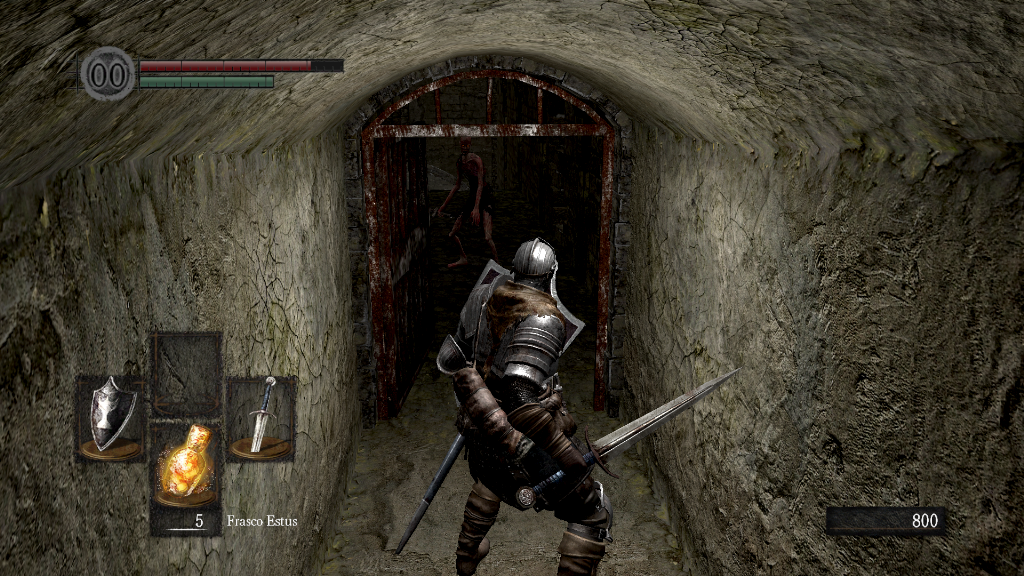health: (138, 58, 343, 71)
hollow: (429, 136, 498, 267)
humanity: (80, 45, 136, 102)
player: (392, 235, 742, 576)
souls: (825, 506, 945, 536)
stamina: (138, 74, 274, 88)
